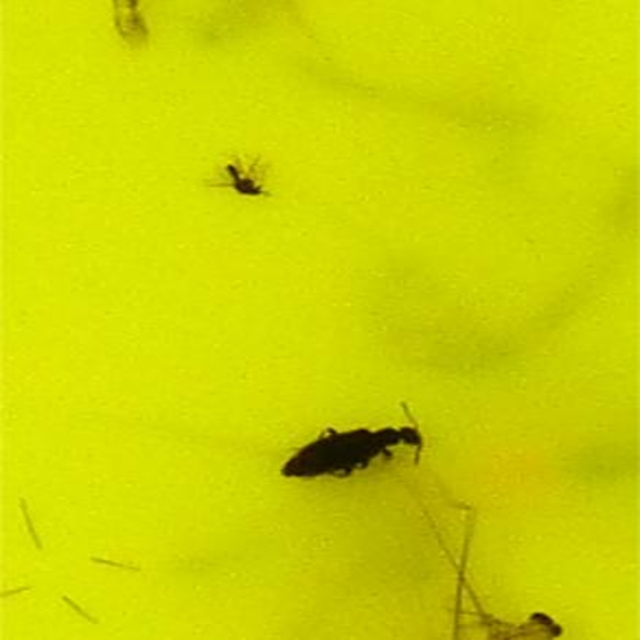Brachycera: (219, 159, 270, 201)
Coleoptera: (276, 417, 421, 481)
